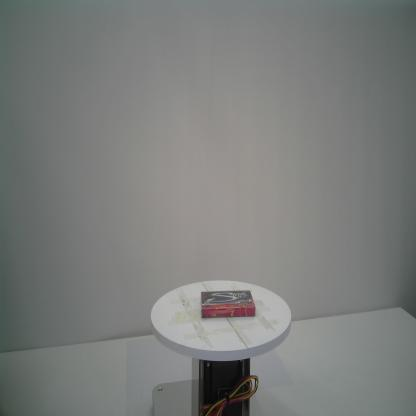Gum: (201, 291, 256, 318)
